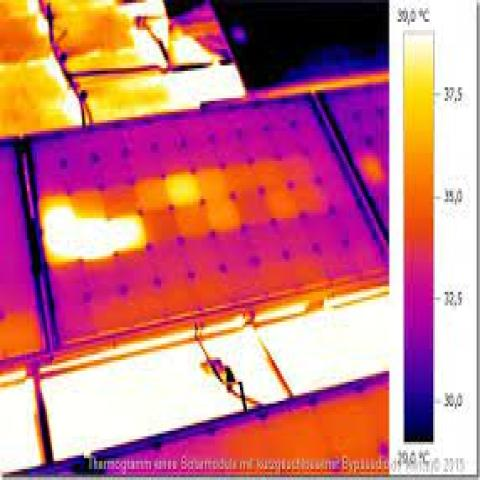fault: (156, 166, 208, 212), (44, 200, 75, 262), (78, 214, 108, 259), (110, 214, 145, 250)
